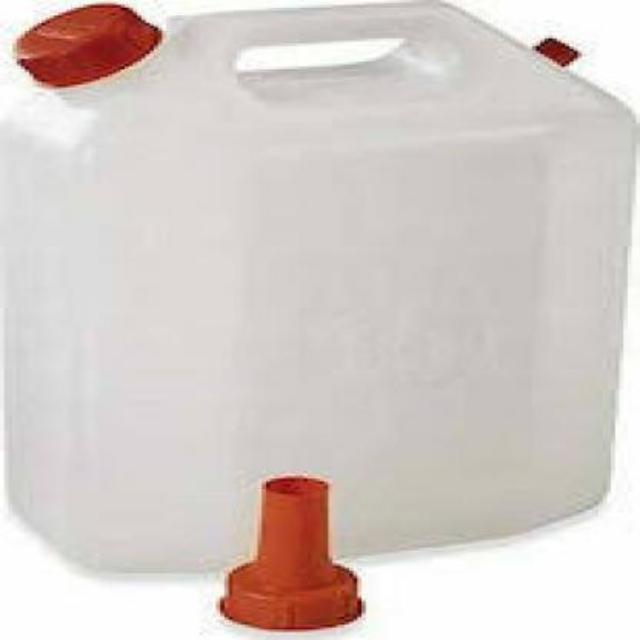chemical_plastic_gallon: (9, 2, 632, 626)
